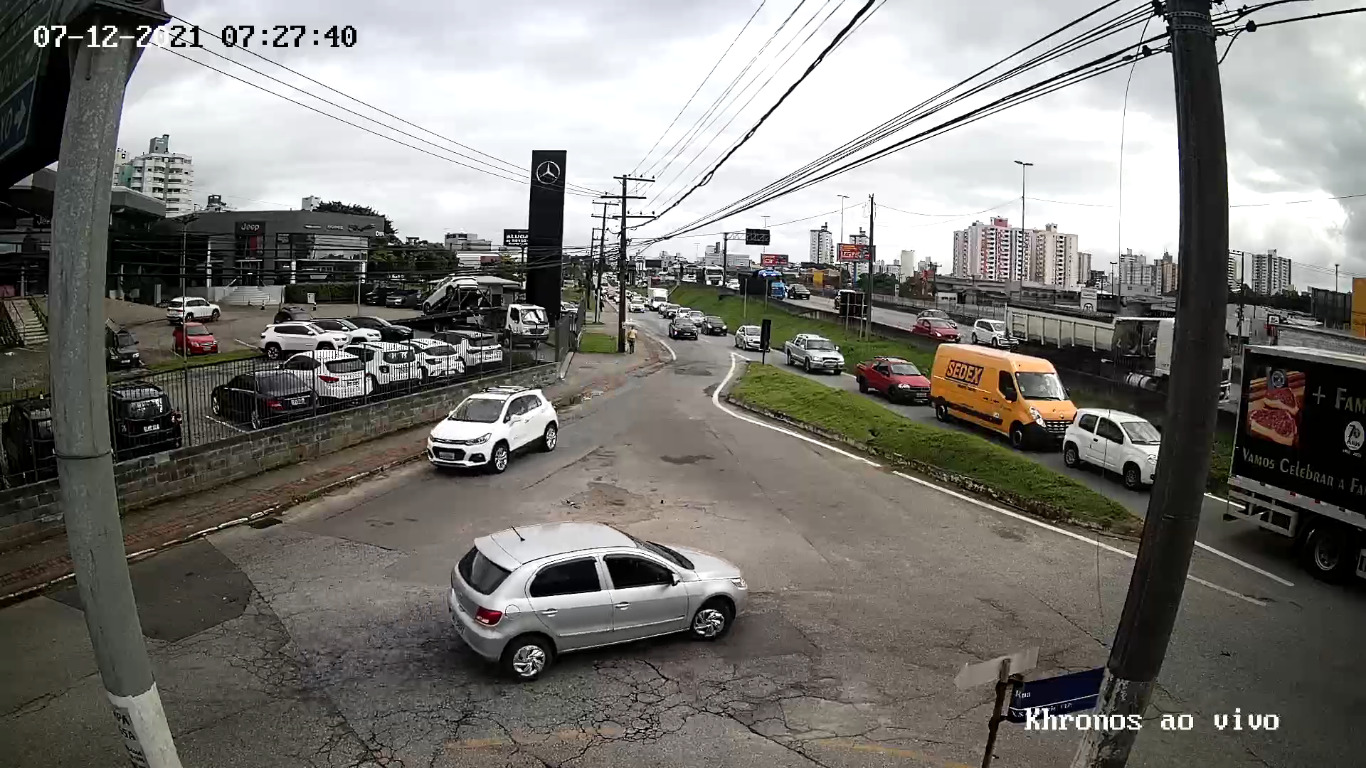car: (448, 519, 747, 683), (427, 383, 559, 473)
